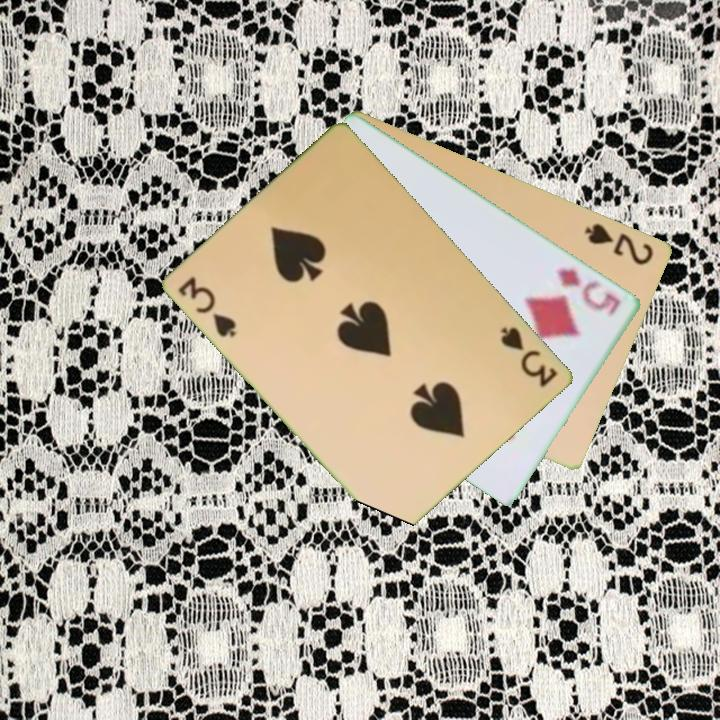2s: (581, 219, 657, 268)
3s: (175, 273, 240, 341), (497, 323, 561, 391)
5d: (553, 264, 624, 320)
